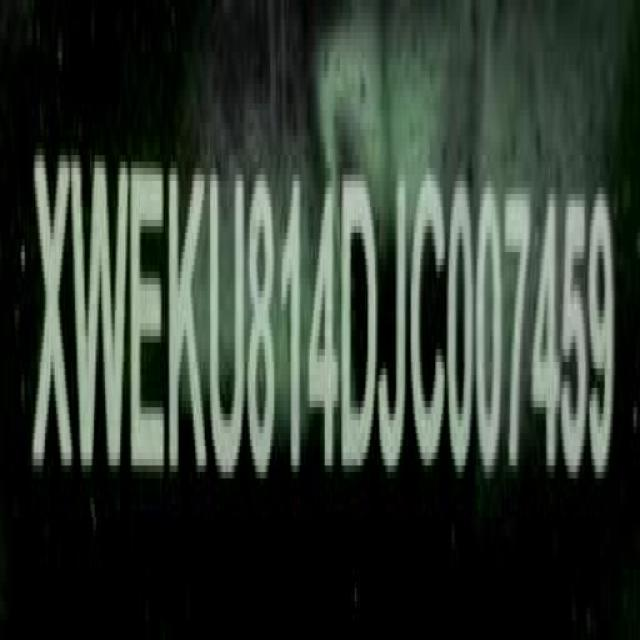0: (476, 173, 504, 482), (449, 176, 477, 479)
1: (282, 165, 305, 489)
4: (307, 167, 341, 488), (531, 179, 560, 483)
5: (562, 188, 590, 484)
7: (506, 176, 532, 484)
8: (247, 166, 278, 487)
9: (591, 186, 620, 485)
C: (412, 174, 448, 479)
D: (343, 170, 379, 484)
E: (128, 155, 166, 488)
J: (378, 162, 408, 480)
K: (168, 157, 210, 488)
U: (208, 158, 246, 479)
W: (72, 144, 132, 491)
X: (29, 143, 74, 494)
